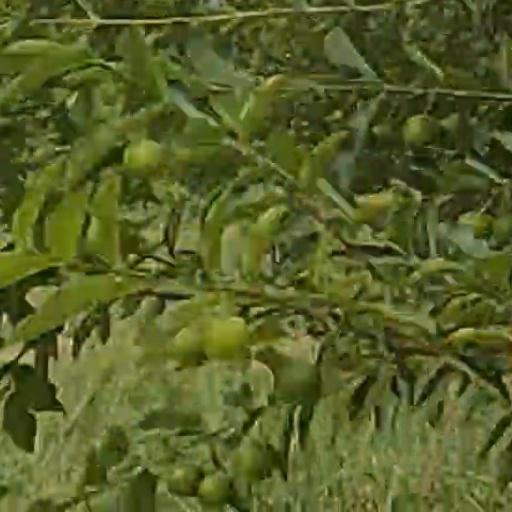acerola: (203, 319, 245, 362), (124, 139, 162, 180), (405, 114, 438, 154), (198, 473, 227, 507), (169, 465, 198, 492)
